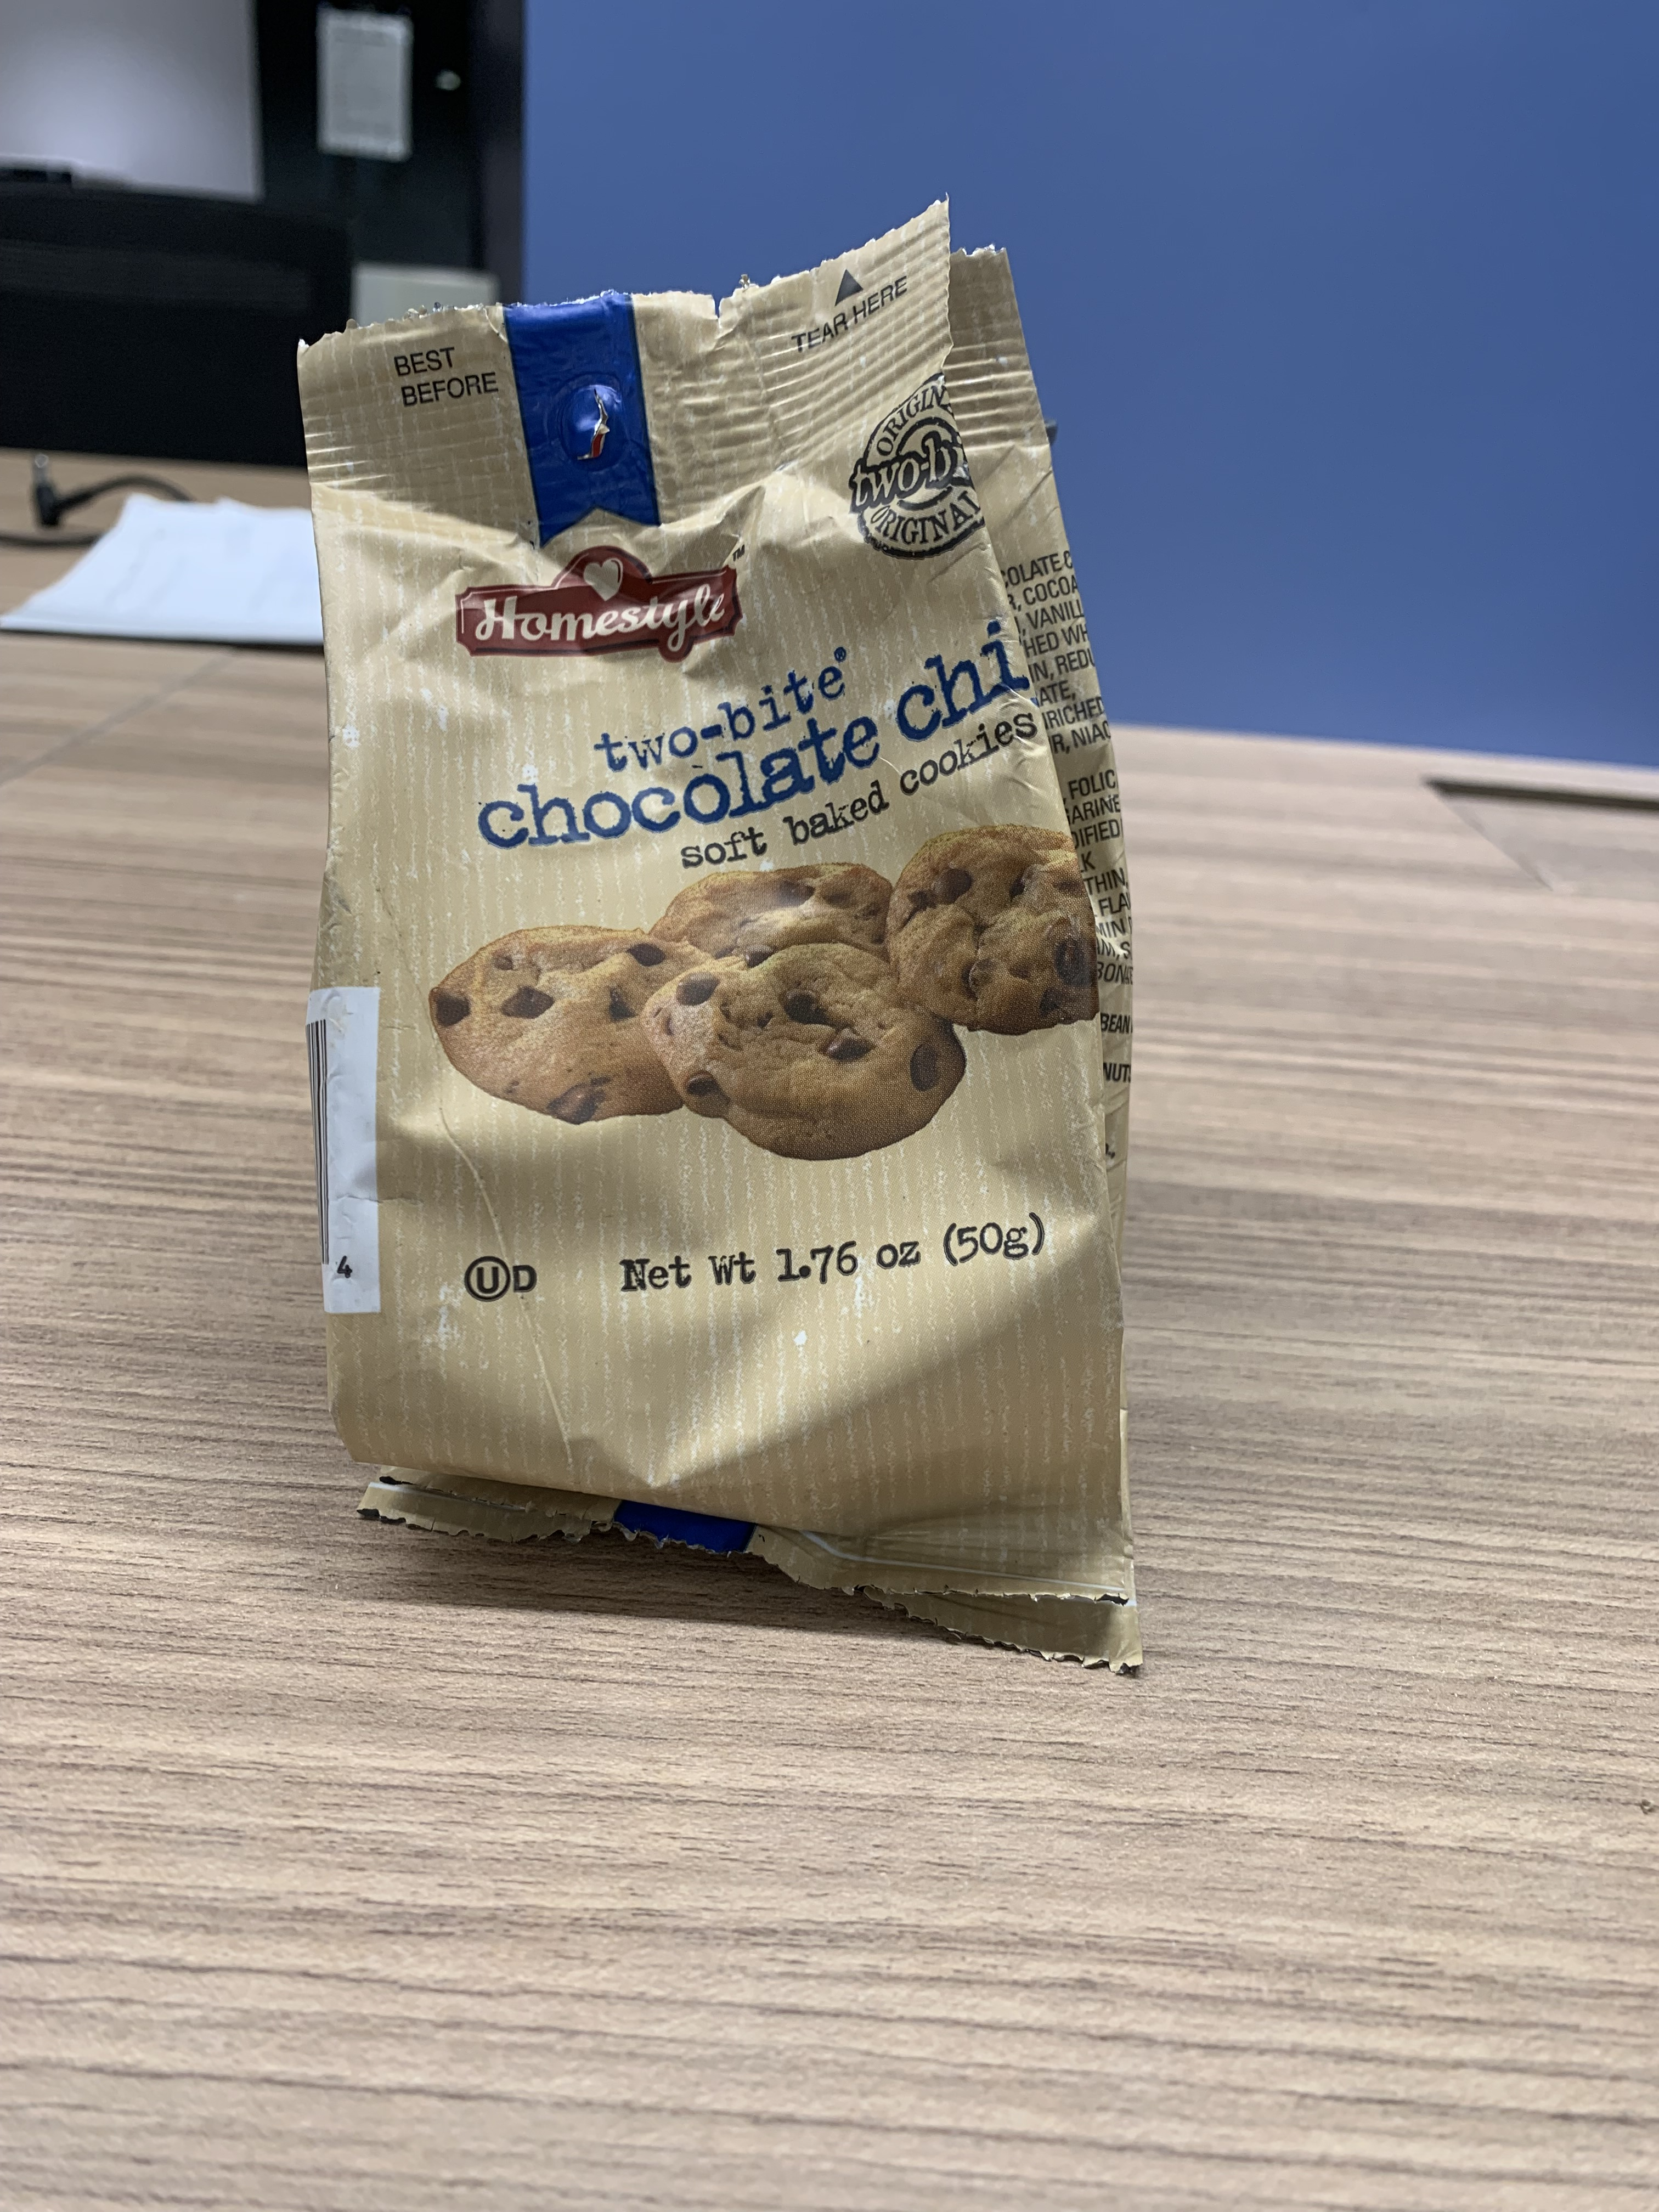cookies: (216, 178, 1152, 1693)
